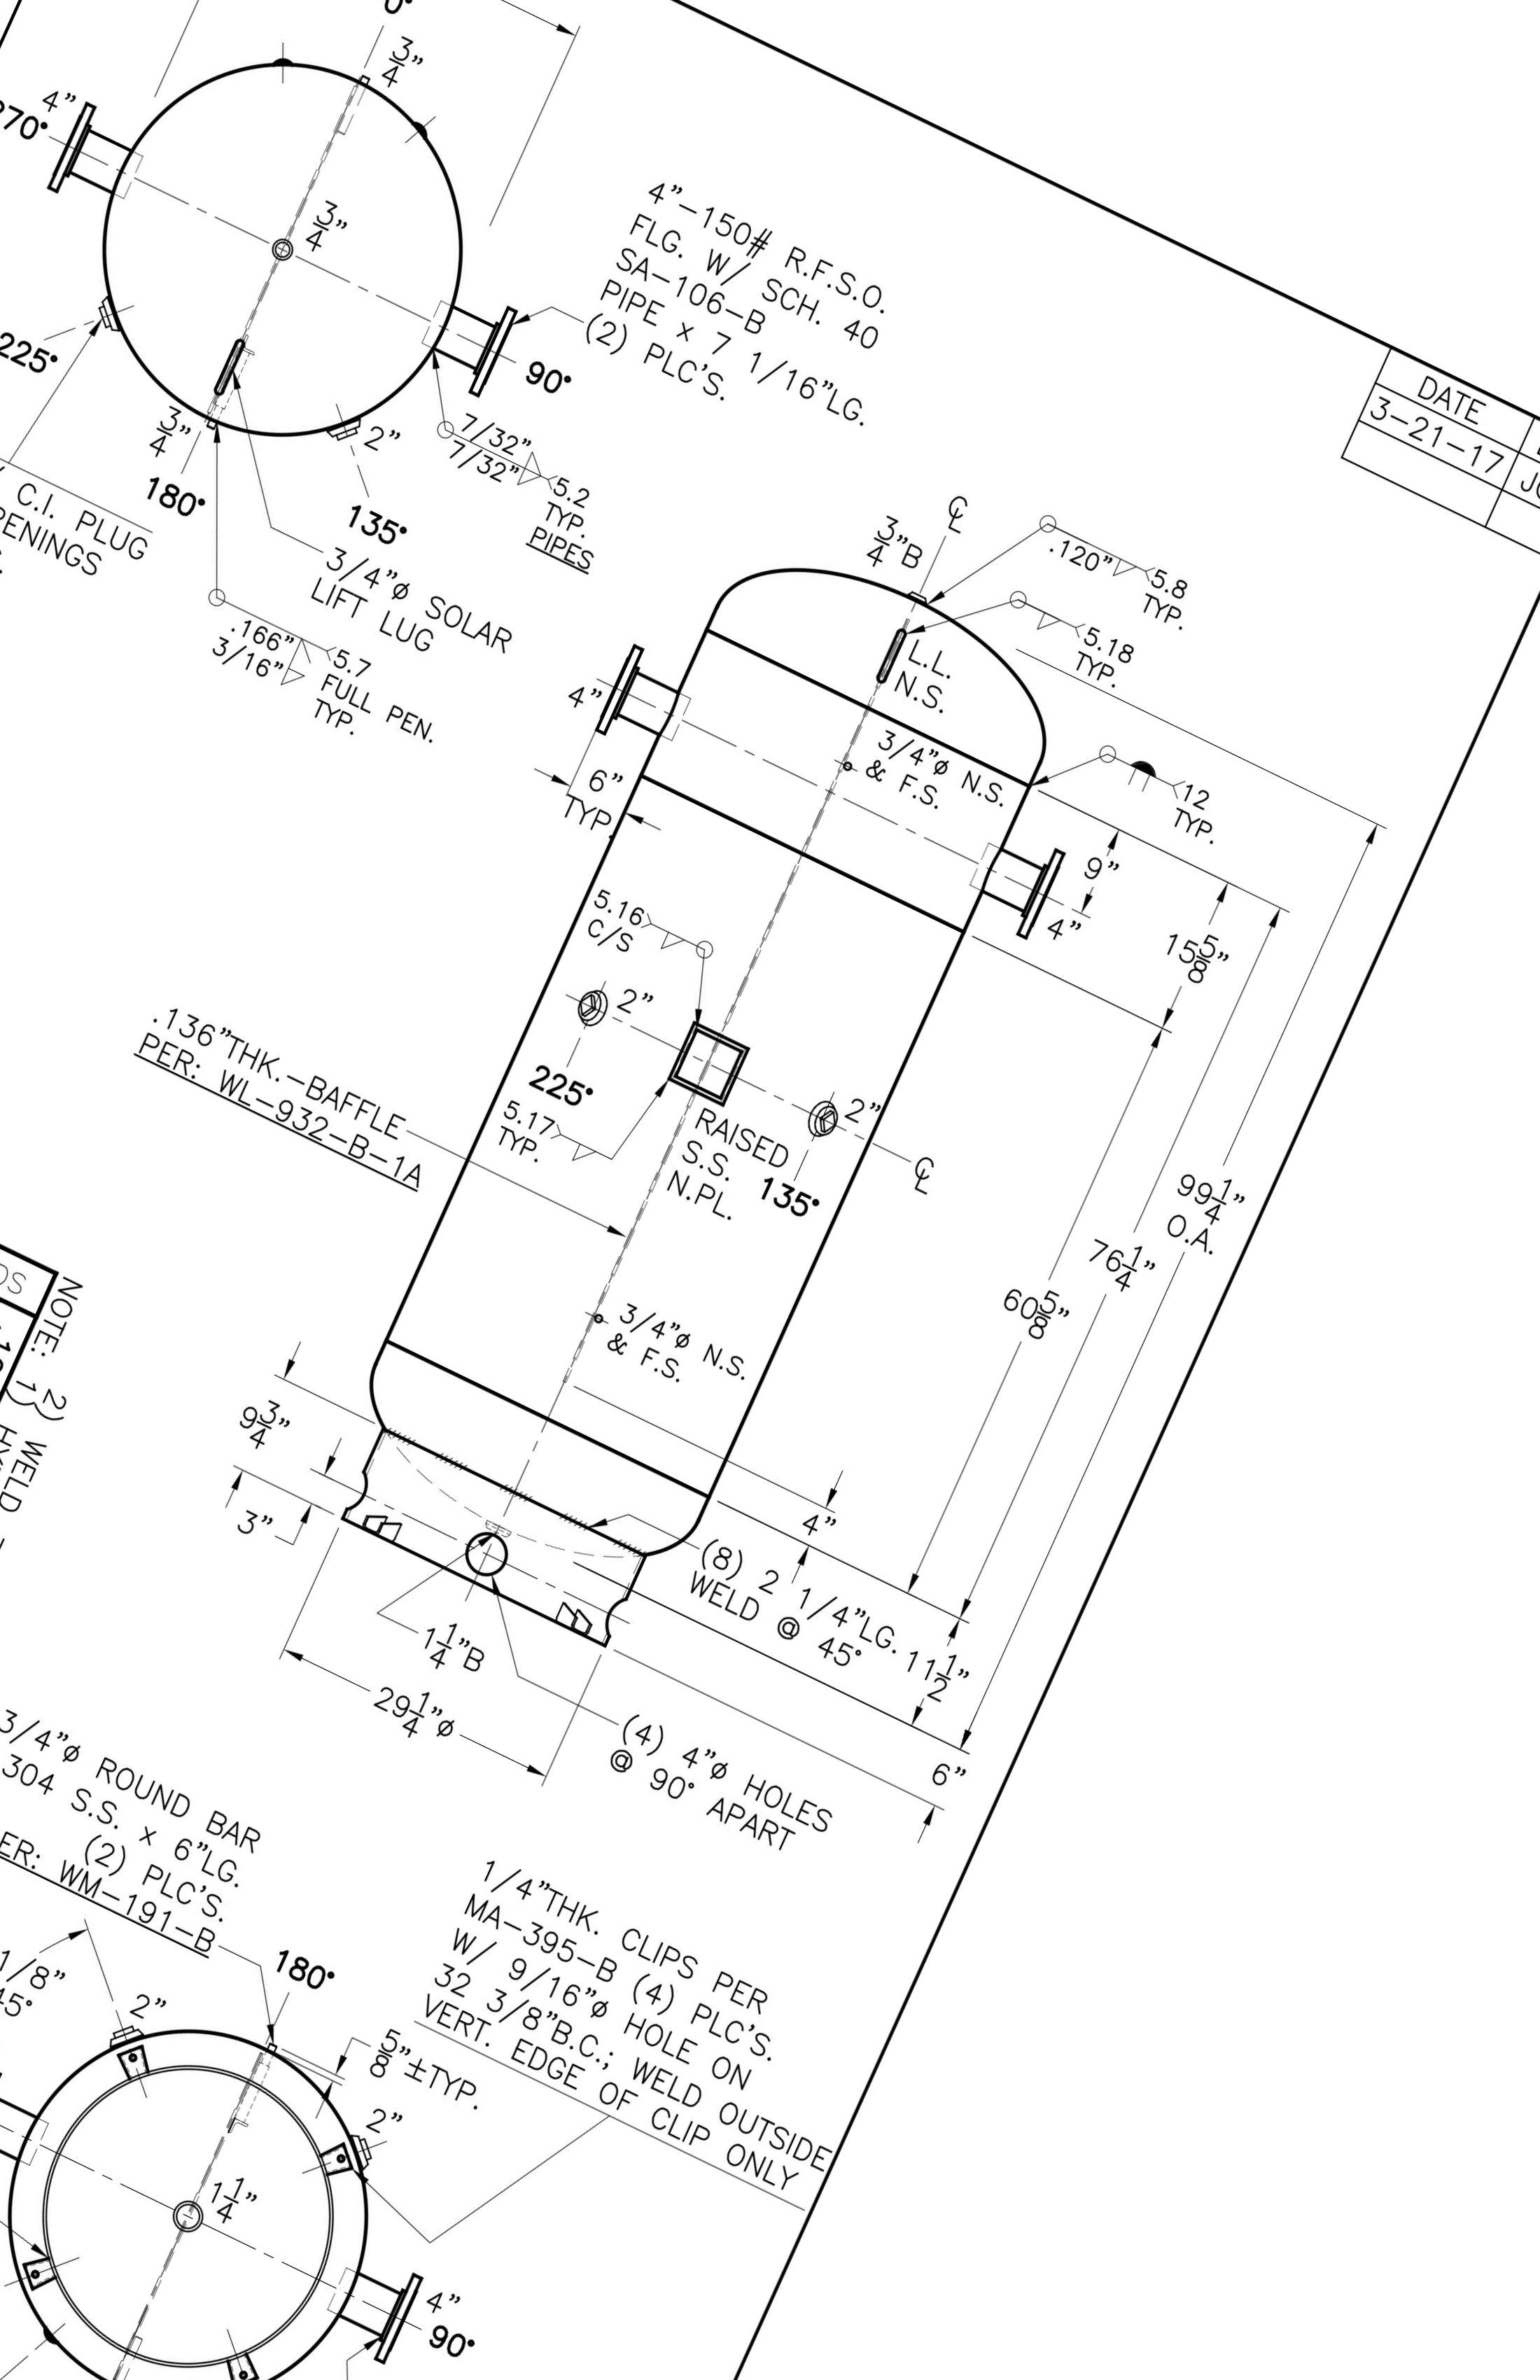Nozzle: (562, 578, 734, 732), (17, 73, 165, 217), (281, 2267, 461, 2380), (966, 829, 1103, 961), (1015, 817, 1112, 964), (9, 2059, 66, 2196)
